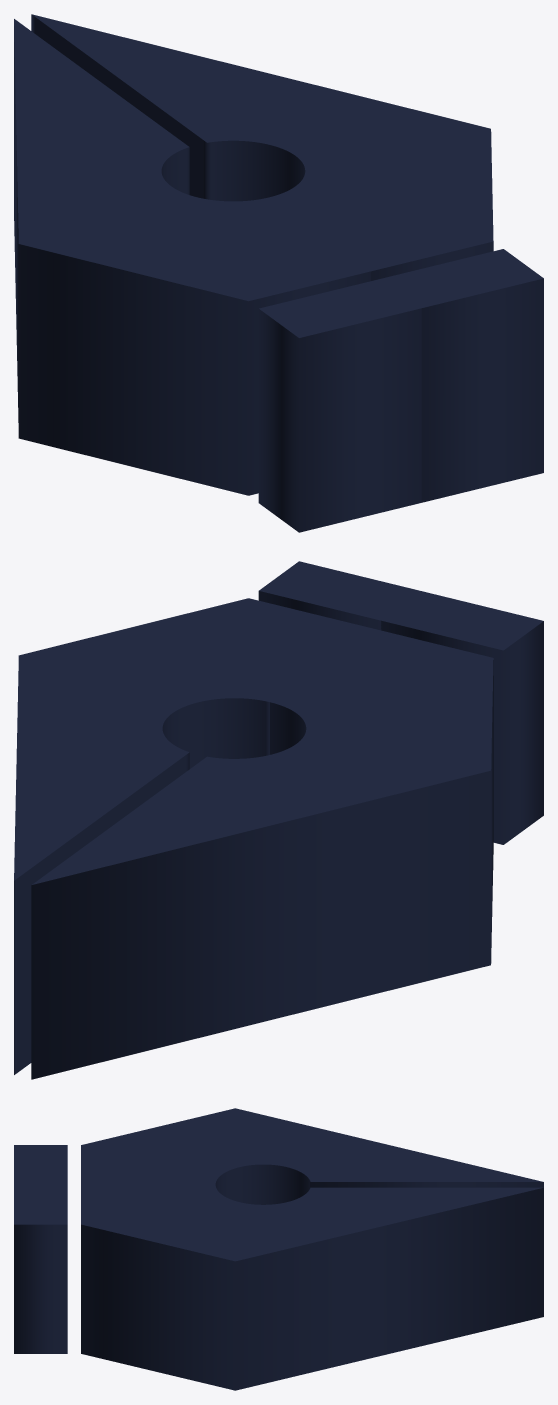
The model's file is pentool.gltf.
3 views of the same model, one above another, from view 1: azimuth 30°, elevation 25°; view 2: azimuth 150°, elevation 25°; view 3: azimuth 270°, elevation 25° (orthographic). The views are drawn at different scales.
Visible parts, largest first — view 1: Curve, Curve.001, Curve.003, Curve.002; view 2: Curve, Curve.001, Curve.003, Curve.002; view 3: Curve.001, Curve, Curve.002, Curve.003.
Part boxes in pixels (left/top/right/bottom): Curve: left=14, top=19, right=370, bottom=495; Curve.001: left=31, top=14, right=493, bottom=280; Curve.003: left=258, top=279, right=421, bottom=532; Curve.002: left=381, top=249, right=543, bottom=502; Curve: left=31, top=628, right=493, bottom=1079; Curve.001: left=14, top=598, right=370, bottom=1074; Curve.003: left=381, top=591, right=543, bottom=844; Curve.002: left=258, top=561, right=420, bottom=630; Curve.001: left=81, top=1185, right=543, bottom=1390; Curve: left=81, top=1108, right=543, bottom=1204; Curve.002: left=14, top=1185, right=67, bottom=1353; Curve.003: left=14, top=1145, right=67, bottom=1184.
Size of the model in its own units: 1.56 by 0.6161 by 2.29.
